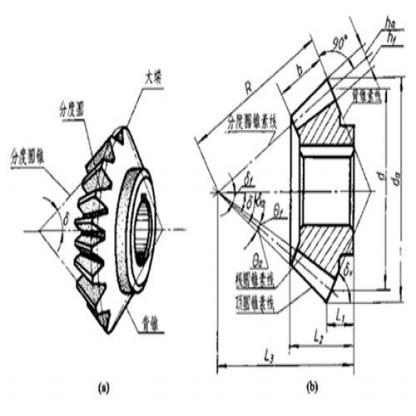FOD: (70, 126, 160, 340)
